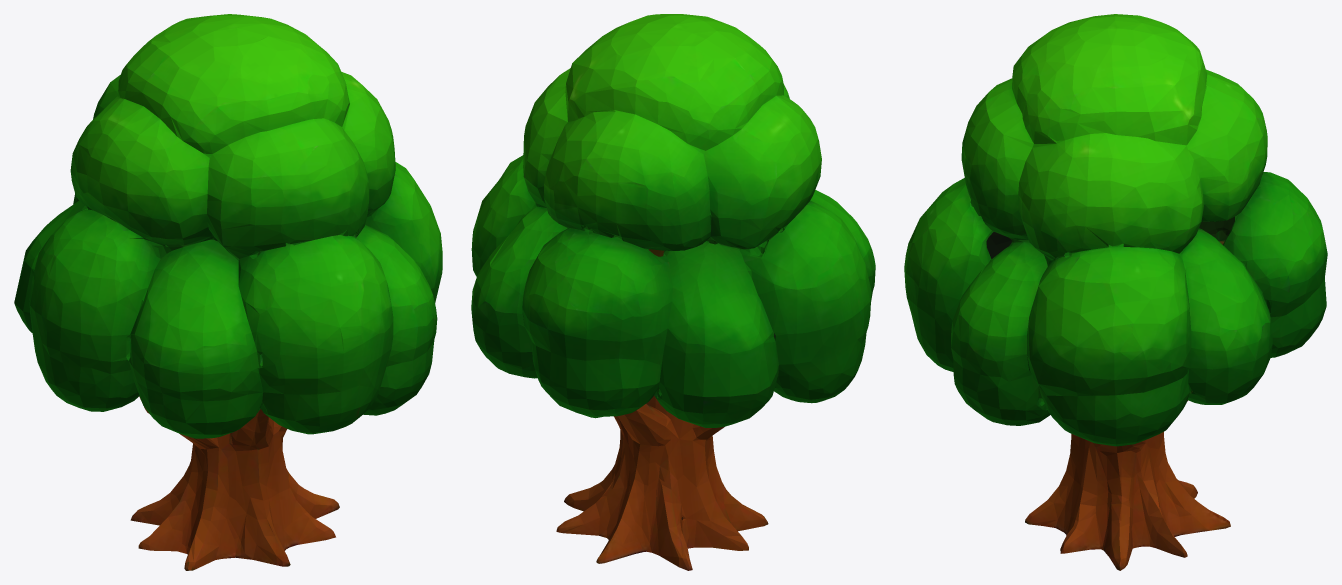
The model's file is rounded_tree.glb.
3 views of the same model, side by side, from view 1: azimuth 30°, elevation 25°; view 2: azimuth 150°, elevation 25°; view 3: azimuth 270°, elevation 25° (orthographic). The views are drawn at different scales.
Parts seen in each view (by area): view 1: geometry_0; view 2: geometry_0; view 3: geometry_0.
Boxes of the visible parts, x1,y1,x2,y2 form: geometry_0: [14, 14, 442, 570]; geometry_0: [471, 14, 875, 570]; geometry_0: [904, 14, 1327, 570].
Size of the model in its own units: 0.7872 by 0.9976 by 0.7781.
Materials: 1 (1 with a texture image).
